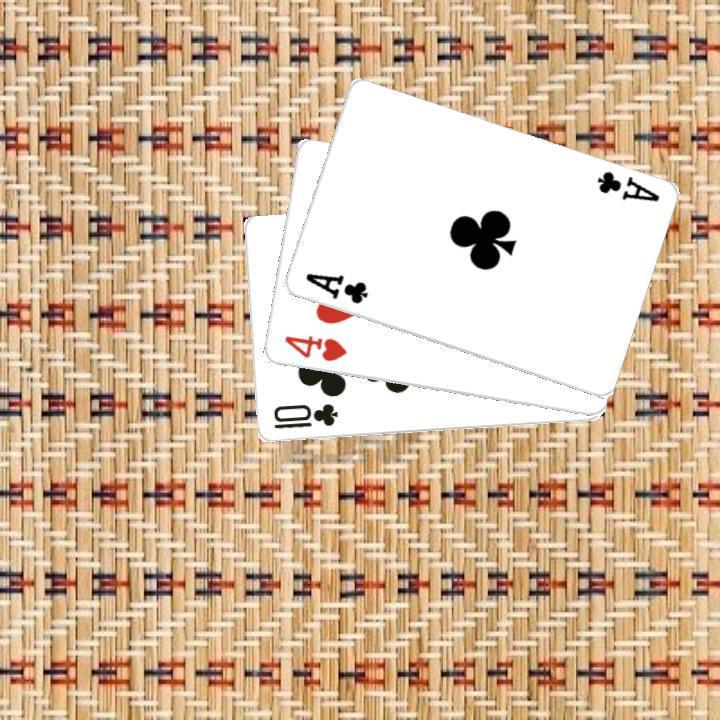10: (268, 400, 340, 432)
4: (280, 331, 348, 364)
A: (300, 268, 369, 307), (591, 167, 661, 204)
